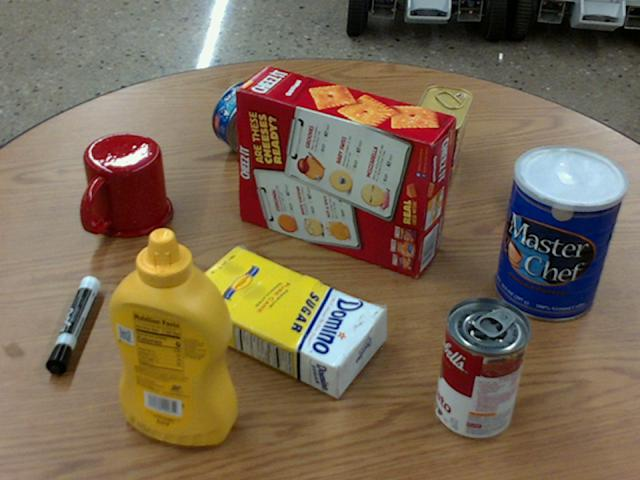cracker_box: (235, 67, 453, 277)
gelatin_box: (510, 155, 595, 227)
large_marker: (44, 275, 98, 371)
master_chef_can: (494, 145, 626, 321)
mug: (80, 133, 172, 236)
mustard_bottle: (106, 227, 233, 443)
potted_meat_can: (410, 85, 473, 187)
sugar_box: (177, 244, 386, 398)
tomato_soup_can: (434, 298, 530, 439)
tuna_fish_can: (211, 80, 283, 154)
